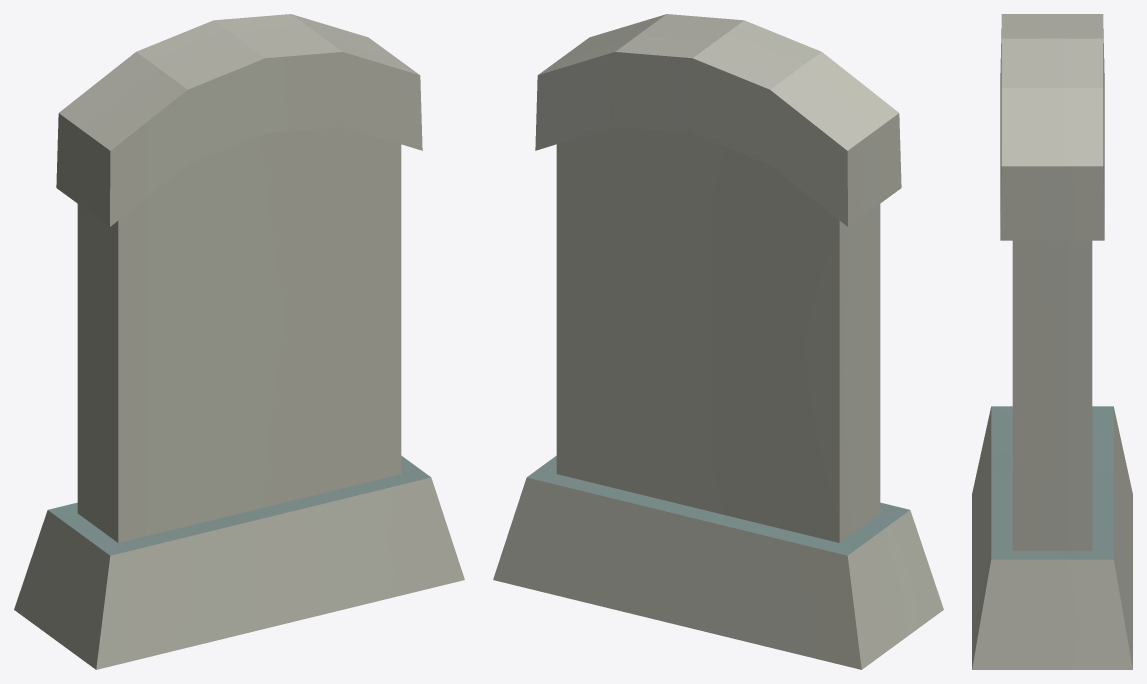
Rendered from mogila.fbx.
The picture shows the model from 3 angles, left to right: view 1: azimuth 30°, elevation 25°; view 2: azimuth 150°, elevation 25°; view 3: azimuth 270°, elevation 25°; orthographic projection. The views are drawn at different scales.
Visible parts, largest first — view 1: Cube.036; view 2: Cube.036; view 3: Cube.036.
Boxes of the visible parts, x1,y1,x2,y2 form: Cube.036: (14,14,464,669); Cube.036: (493,14,943,669); Cube.036: (972,14,1132,669).
Size of the model in its own units: 161 by 231 by 62.05.
